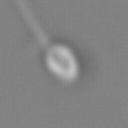normal: (11, 1, 49, 44)
